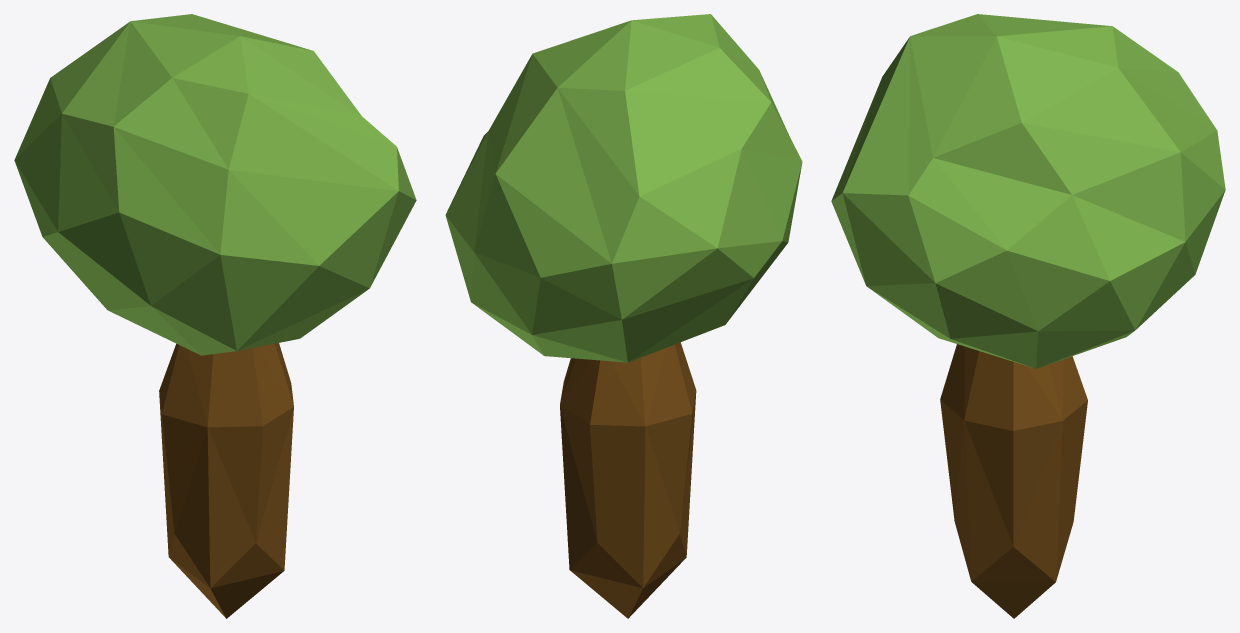
File: tree19.dae
3 renders of one model, left to right at view 1: azimuth 30°, elevation 25°; view 2: azimuth 150°, elevation 25°; view 3: azimuth 270°, elevation 25°, orthographic.
Visible parts, largest first — view 1: Icosphere_059; view 2: Icosphere_059; view 3: Icosphere_059.
Boxes of the visible parts, <box> form: Icosphere_059: <box>14,14,416,618</box>; Icosphere_059: <box>445,14,802,618</box>; Icosphere_059: <box>831,14,1225,618</box>.
Bounding box in the file's own units: 1.2 × 1.32 × 2.17.
